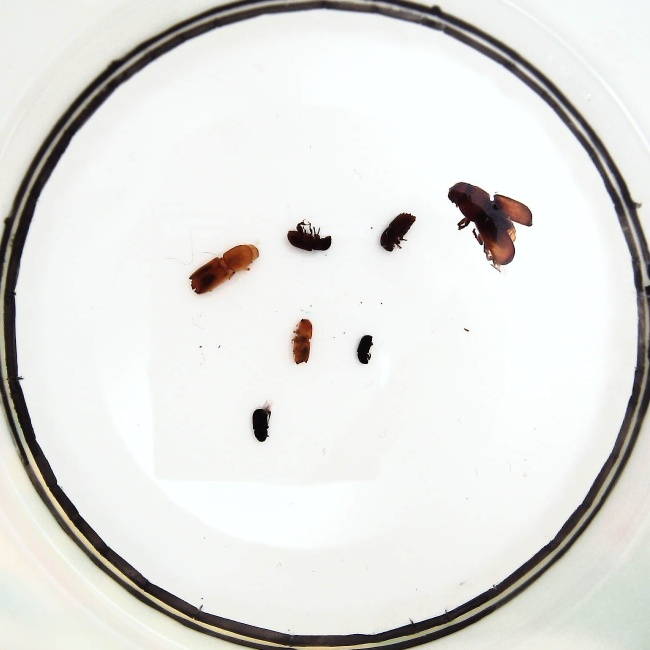acuminatus: (291, 318, 314, 364)
armandi: (287, 222, 332, 252)
boerner: (189, 244, 258, 296)
coleoptera: (251, 407, 271, 442), (357, 334, 373, 363)
leconte: (446, 181, 533, 266)
linnaeus: (379, 213, 417, 253)
